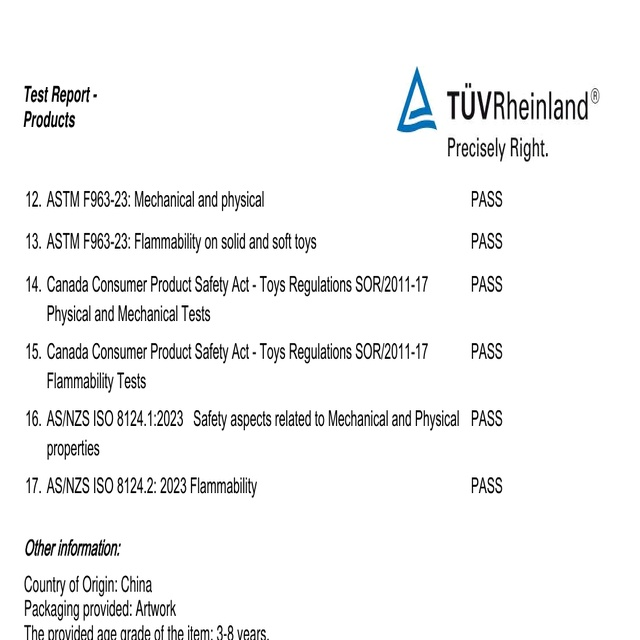tuv_rheinland: (393, 64, 603, 134)
